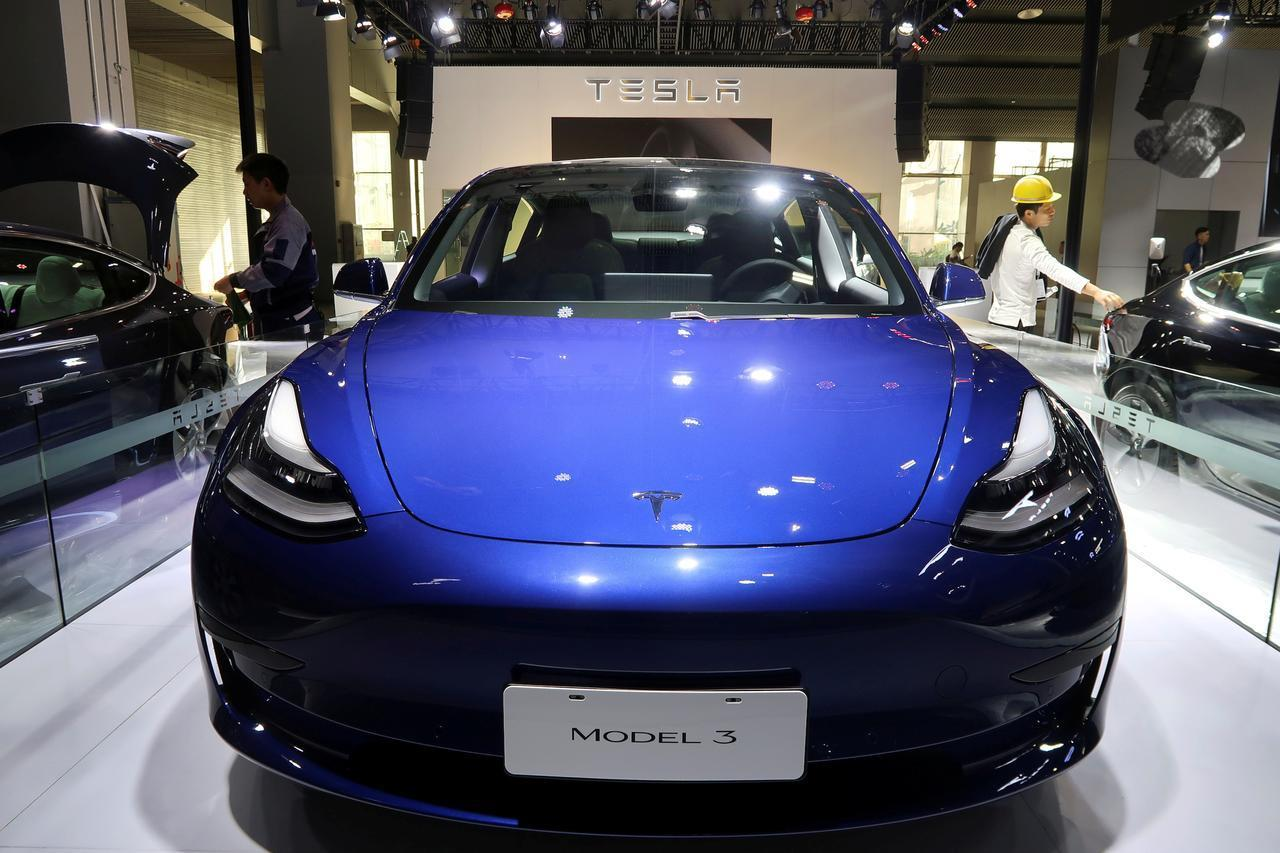Tesla: (632, 489, 682, 524)
